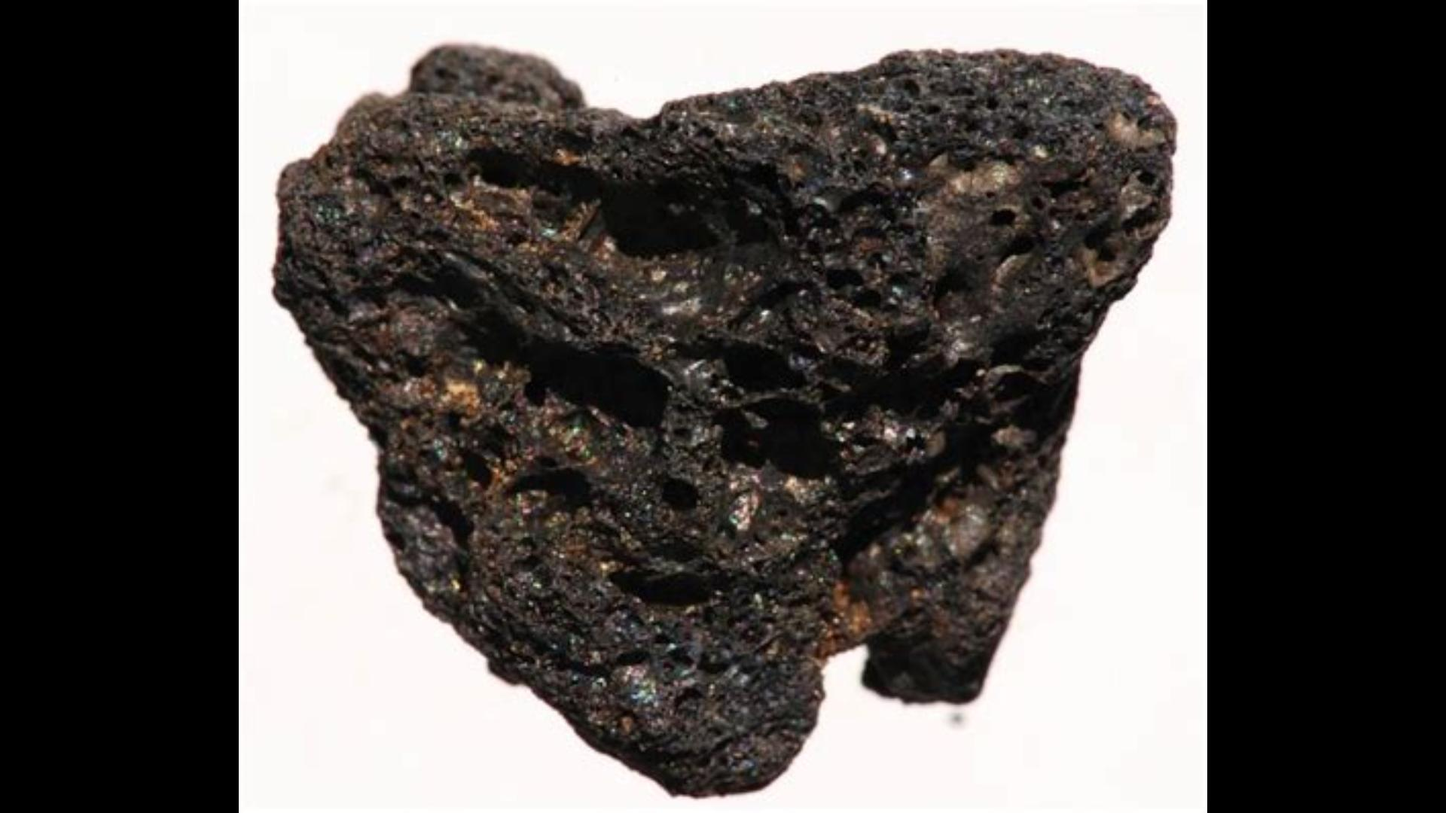rock: (276, 47, 1175, 793)
